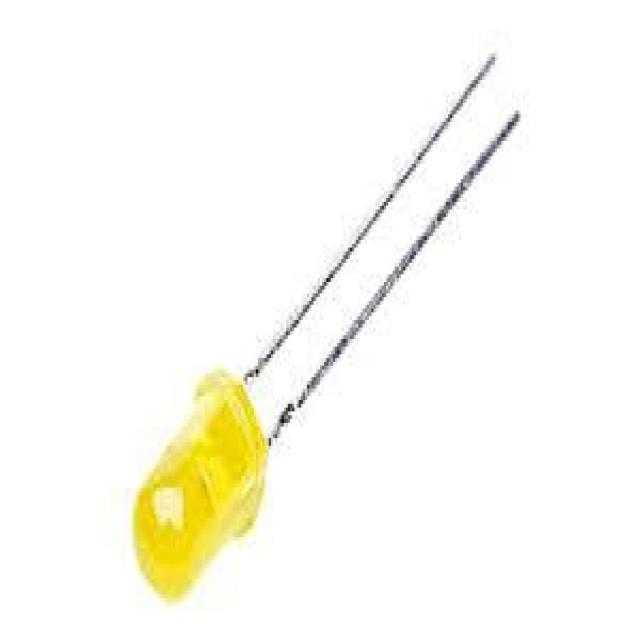Led: (134, 117, 519, 597)
